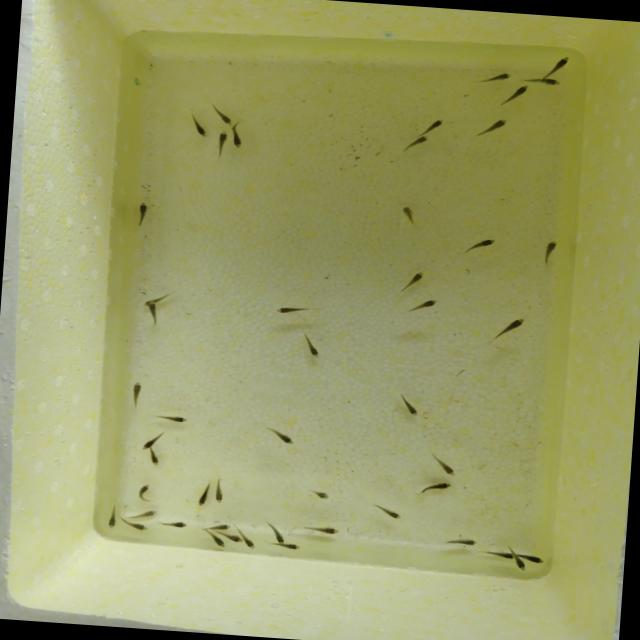fingerling: (486, 314, 532, 344), (458, 233, 500, 258), (392, 268, 430, 294), (498, 82, 532, 110), (536, 235, 564, 268), (128, 200, 156, 233), (393, 390, 423, 420), (258, 424, 298, 446), (400, 295, 440, 317), (472, 116, 512, 138), (427, 453, 461, 478), (369, 500, 406, 521), (395, 133, 429, 155), (417, 478, 454, 498), (299, 332, 324, 360), (270, 302, 312, 318), (545, 54, 574, 76), (149, 411, 191, 426), (302, 523, 346, 537), (126, 380, 146, 410), (187, 114, 210, 140), (140, 428, 164, 452), (398, 204, 422, 228), (210, 102, 234, 126), (262, 519, 288, 541), (210, 128, 230, 156), (141, 288, 174, 304), (440, 534, 480, 547), (420, 116, 446, 136), (521, 75, 564, 87), (230, 120, 246, 152), (195, 477, 211, 508), (478, 70, 511, 84), (133, 481, 153, 504), (126, 507, 158, 520), (212, 478, 228, 504), (201, 522, 233, 534), (147, 303, 162, 328), (157, 519, 190, 530), (105, 505, 118, 531), (309, 488, 333, 502), (485, 548, 515, 559), (124, 520, 150, 532), (274, 541, 302, 552), (146, 452, 162, 468), (210, 536, 227, 550), (530, 553, 546, 565), (227, 533, 244, 544), (244, 537, 258, 550), (513, 560, 528, 571)
